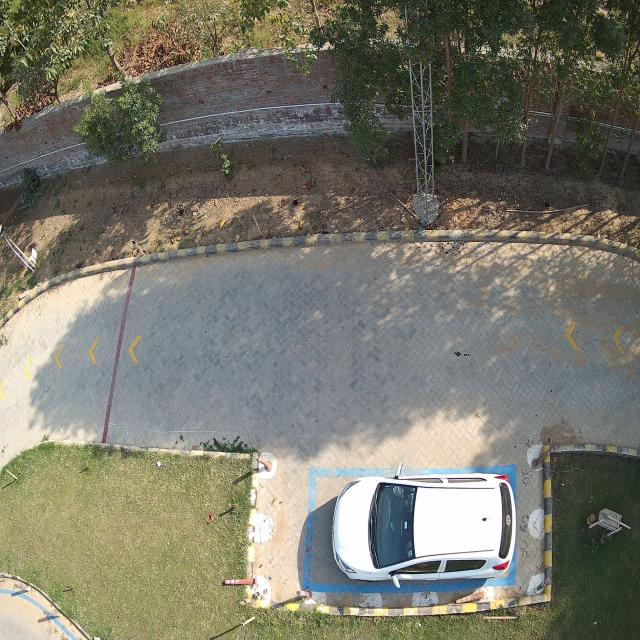car: (332, 472, 517, 581)
